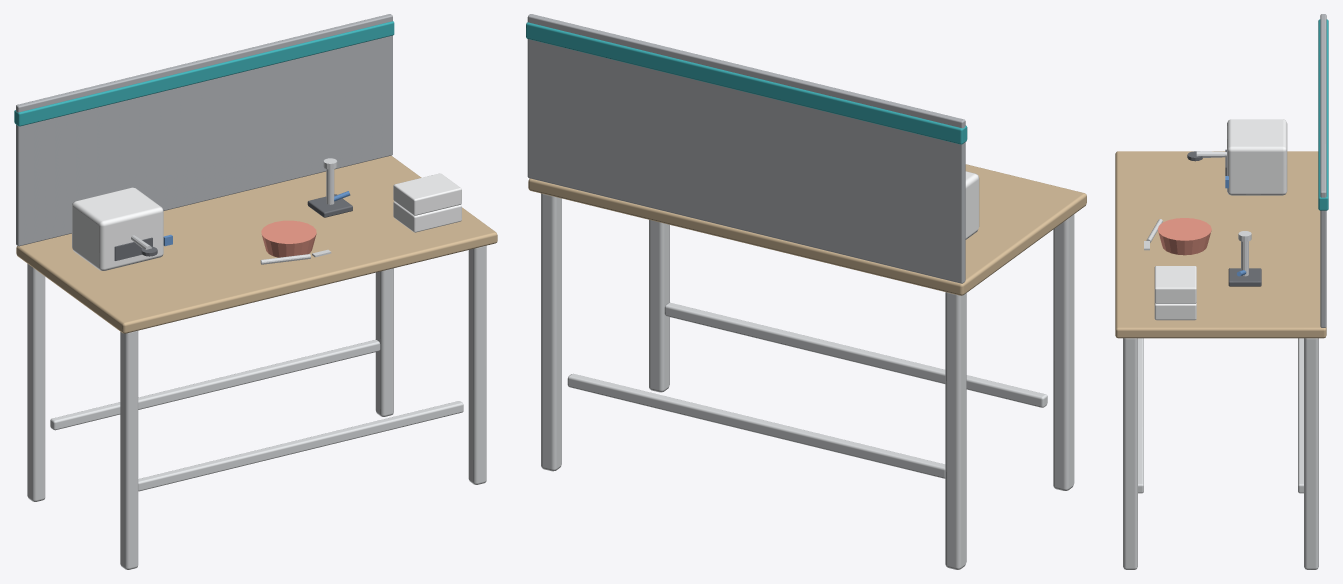
File: Lab Bench (Dental Practice and Surgery).glb
The picture shows the model from 3 angles, left to right: view 1: azimuth 30°, elevation 25°; view 2: azimuth 150°, elevation 25°; view 3: azimuth 270°, elevation 25°; orthographic projection. The views are drawn at different scales.
Parts seen in each view (by area): view 1: lab-bench; view 2: lab-bench; view 3: lab-bench.
Part boxes in pixels (left/top/right/bottom): lab-bench: left=14, top=14, right=497, bottom=569; lab-bench: left=526, top=14, right=1086, bottom=569; lab-bench: left=1115, top=14, right=1328, bottom=569.
Size of the model in its own units: 1.4 by 1.4 by 0.707.
